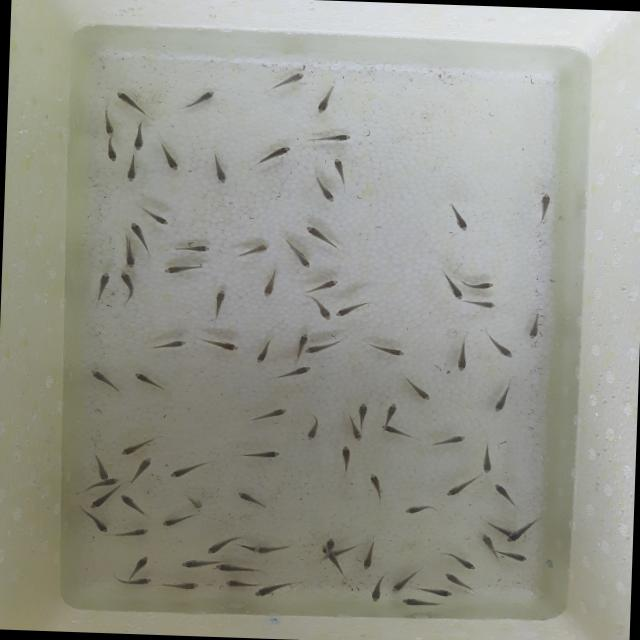fingerling: (262, 69, 308, 100), (175, 86, 220, 115), (402, 372, 436, 404), (128, 369, 169, 395), (361, 470, 392, 504), (353, 536, 382, 572), (269, 362, 316, 384), (204, 148, 230, 186), (235, 446, 288, 464), (232, 488, 272, 511), (300, 223, 334, 250), (359, 342, 409, 360), (116, 434, 156, 456), (126, 454, 154, 485), (94, 104, 118, 140), (443, 200, 469, 233), (486, 384, 514, 414), (206, 534, 248, 554), (304, 336, 348, 355), (253, 401, 291, 423), (312, 84, 338, 116), (112, 89, 146, 113), (328, 153, 352, 187), (486, 335, 520, 359), (82, 365, 116, 389), (129, 221, 157, 250), (156, 142, 183, 172), (301, 411, 325, 444), (196, 336, 242, 353), (365, 572, 388, 606), (286, 244, 318, 268), (334, 300, 372, 320), (138, 203, 174, 224), (476, 530, 501, 560), (206, 287, 228, 321), (252, 582, 296, 599), (167, 462, 204, 482), (492, 481, 520, 507), (441, 475, 474, 497), (443, 573, 481, 592), (302, 276, 342, 294), (312, 173, 334, 205), (164, 262, 207, 278), (438, 274, 464, 300), (252, 336, 276, 364), (439, 550, 476, 568), (398, 503, 442, 518), (378, 423, 416, 440), (158, 512, 201, 527), (88, 452, 111, 480), (239, 240, 273, 258), (399, 595, 446, 608), (504, 524, 537, 542), (478, 442, 497, 473), (422, 582, 453, 601), (170, 240, 212, 254), (380, 396, 401, 424), (216, 562, 265, 574), (386, 571, 415, 591), (95, 268, 112, 302), (312, 294, 334, 320), (259, 270, 279, 298), (335, 444, 355, 472), (84, 509, 108, 532), (92, 474, 124, 491), (95, 142, 122, 162), (151, 338, 191, 351), (120, 494, 146, 514), (160, 580, 203, 592), (122, 238, 138, 270), (464, 296, 496, 312), (453, 342, 469, 374), (129, 122, 146, 152), (316, 130, 358, 142), (290, 330, 308, 358), (482, 521, 513, 537), (267, 143, 296, 160), (117, 271, 133, 301), (357, 398, 372, 430), (502, 550, 532, 566), (115, 576, 150, 589), (528, 312, 542, 344), (348, 414, 362, 444), (116, 526, 151, 538), (176, 557, 218, 567), (86, 492, 112, 508), (130, 554, 153, 571), (125, 156, 138, 186), (218, 578, 257, 588), (437, 434, 469, 446), (538, 193, 552, 220), (466, 280, 498, 290), (254, 546, 292, 554), (324, 538, 336, 554)
